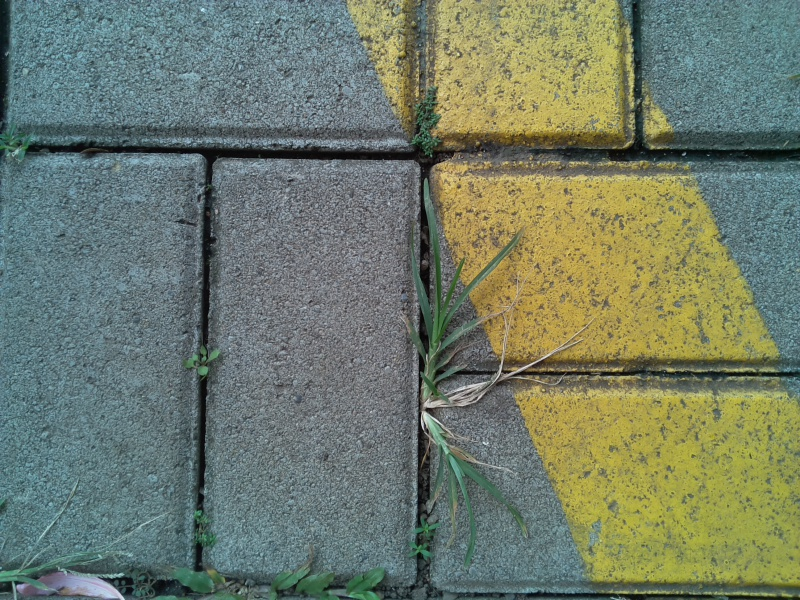Weed: (414, 306, 583, 441), (397, 189, 498, 402), (389, 407, 541, 528), (261, 559, 393, 600), (405, 82, 459, 156), (166, 560, 249, 600), (107, 557, 163, 600), (175, 342, 227, 383), (182, 503, 227, 548), (2, 122, 41, 166), (409, 514, 439, 543), (402, 539, 434, 564)
